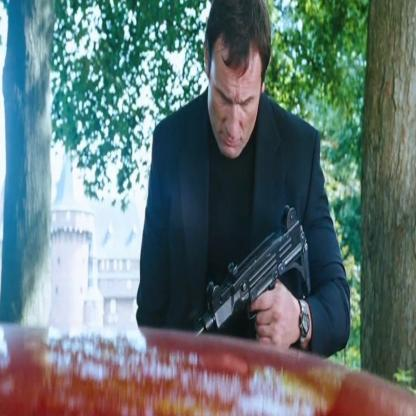gun: (195, 215, 316, 343)
